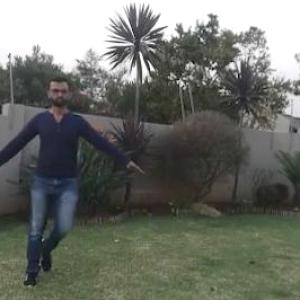land: (0, 85, 139, 257)
